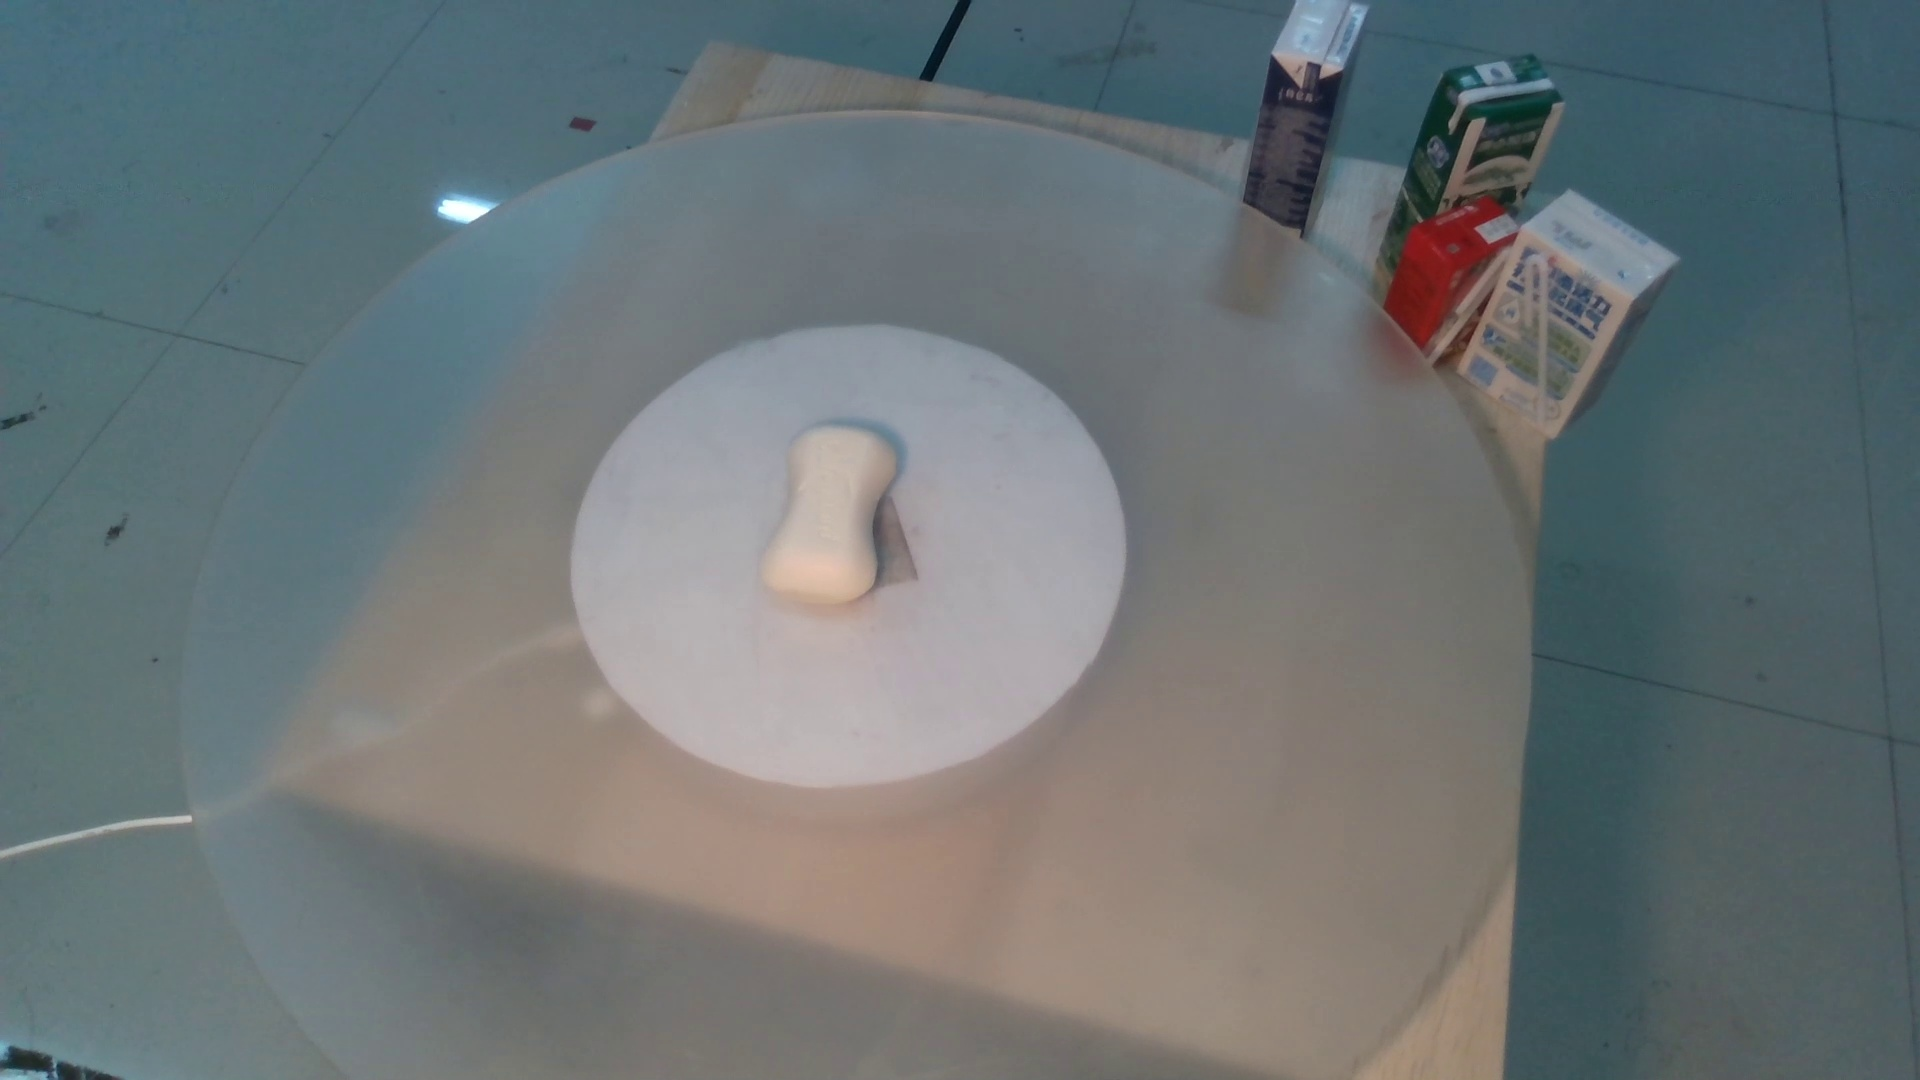CA003_1: (736, 414, 928, 605)
